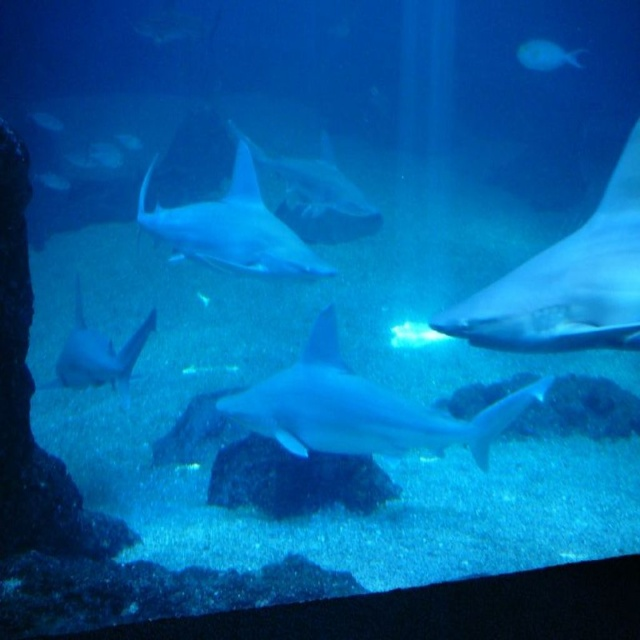Shark: (222, 308, 554, 474), (435, 119, 639, 345), (136, 139, 335, 284)
